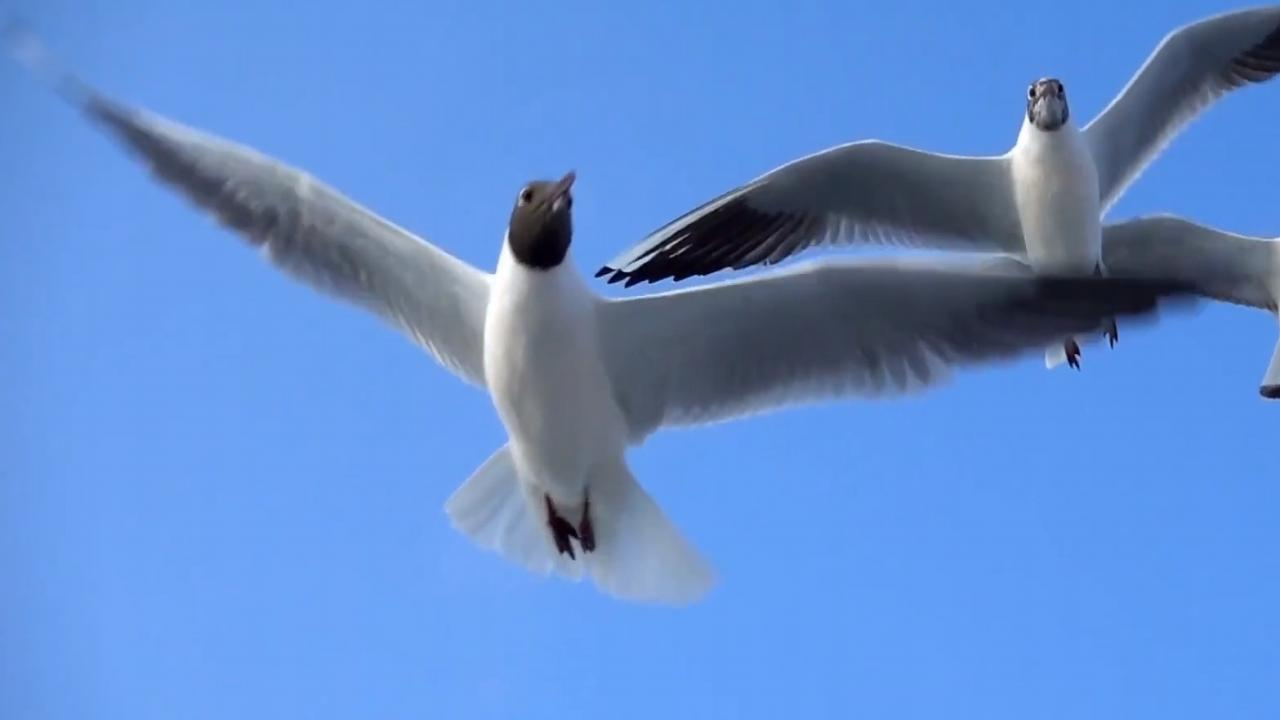Bird: (26, 37, 1218, 628), (577, 0, 1279, 388)
